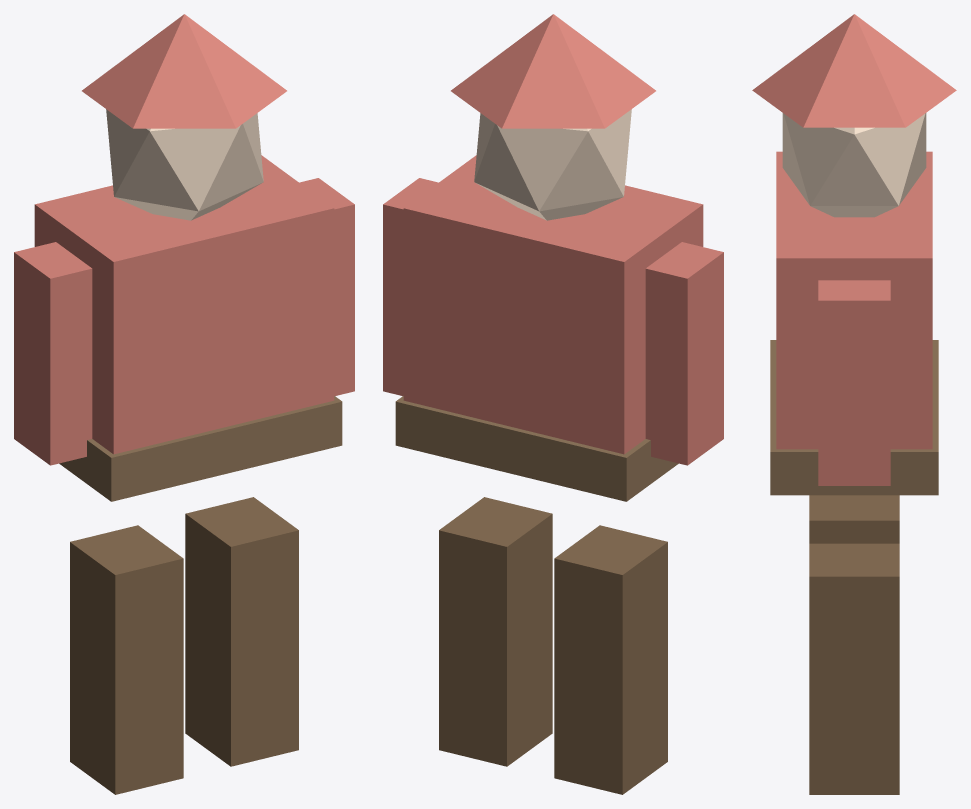
Rendered from settler.glb.
3 views of the same model, side by side, from view 1: azimuth 30°, elevation 25°; view 2: azimuth 150°, elevation 25°; view 3: azimuth 270°, elevation 25° (orthographic).
Visible parts, largest first — view 1: SettlerTorso, SettlerLegR, SettlerLegL, SettlerArmL, SettlerCap, SettlerBelt, SettlerHead, SettlerArmR; view 2: SettlerTorso, SettlerLegR, SettlerLegL, SettlerArmL, SettlerCap, SettlerBelt, SettlerHead, SettlerArmR; view 3: SettlerTorso, SettlerLegR, SettlerArmR, SettlerCap, SettlerHead, SettlerBelt, SettlerLegL.
Part boxes in pixels (x1,y1,x2,y2): SettlerTorso: [34, 155, 334, 454]; SettlerLegR: [185, 497, 298, 766]; SettlerLegL: [70, 525, 183, 794]; SettlerArmL: [14, 242, 92, 465]; SettlerCap: [82, 14, 286, 128]; SettlerBelt: [59, 396, 342, 501]; SettlerHead: [106, 109, 263, 220]; SettlerArmR: [299, 178, 354, 395]; SettlerTorso: [403, 155, 703, 454]; SettlerLegR: [439, 497, 552, 766]; SettlerLegL: [554, 525, 667, 794]; SettlerArmL: [645, 242, 723, 465]; SettlerCap: [451, 14, 655, 128]; SettlerBelt: [395, 396, 678, 501]; SettlerHead: [474, 109, 631, 220]; SettlerArmR: [383, 178, 438, 395]; SettlerTorso: [776, 151, 932, 449]; SettlerLegR: [809, 543, 899, 794]; SettlerArmR: [818, 280, 890, 485]; SettlerCap: [752, 14, 956, 127]; SettlerHead: [782, 113, 926, 217]; SettlerBelt: [770, 340, 938, 495]; SettlerLegL: [809, 495, 899, 543].
Size of the model in its own units: 0.58 by 1.35 by 0.34.
